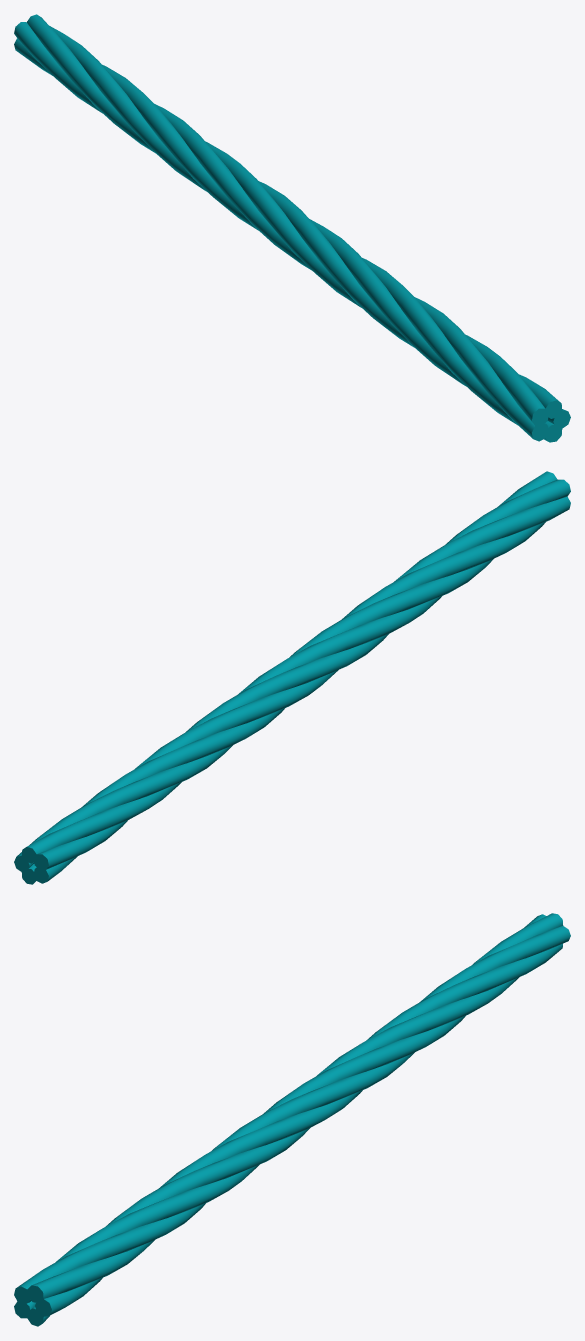
Rendered from wire_7.fbx.
3 renders of one model, top to bottom at view 1: azimuth 30°, elevation 25°; view 2: azimuth 150°, elevation 25°; view 3: azimuth 330°, elevation 25°, orthographic. The views are drawn at different scales.
Visible parts, largest first — view 1: sweep3; view 2: sweep3; view 3: sweep3.
Part boxes in pixels (x1=…): sweep3: x1=14, y1=14, x2=570, y2=442; sweep3: x1=14, y1=471, x2=570, y2=884; sweep3: x1=14, y1=913, x2=570, y2=1326.
Size of the model in its own units: 0.0148 by 0.013 by 0.2878.
